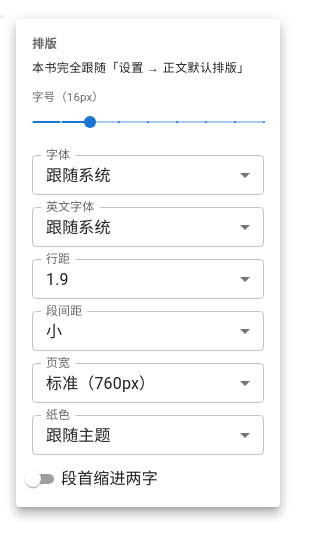
it: TypographyPopover 字体下拉（批次⑤） › 渲染「字体」下拉；展开后含 6 个字体选项且以对应字族预览
Press the mouse on the 1st dropdown labelled "跟随系统" at (78, 175), box [46, 166, 111, 185]
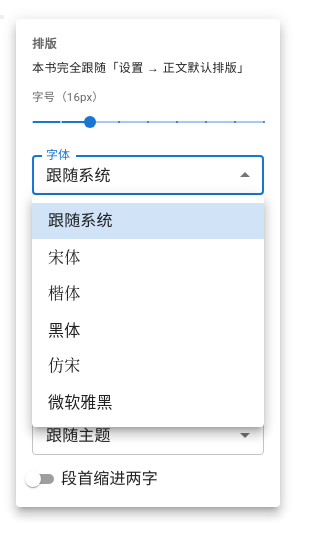
Check: the option "楷体" is shown, box [48, 281, 80, 304]
